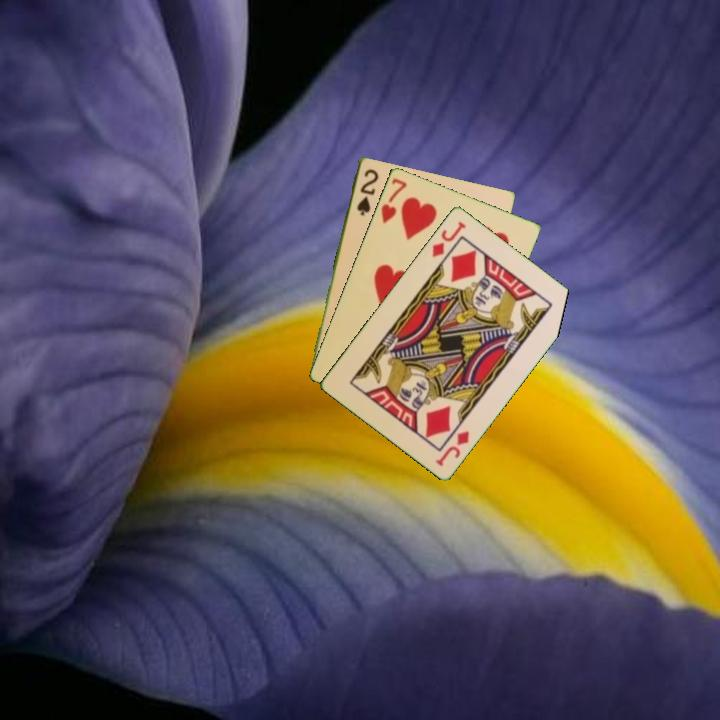2s: (353, 165, 381, 218)
7h: (377, 174, 410, 226)
Jd: (428, 217, 469, 260), (432, 426, 472, 469)
